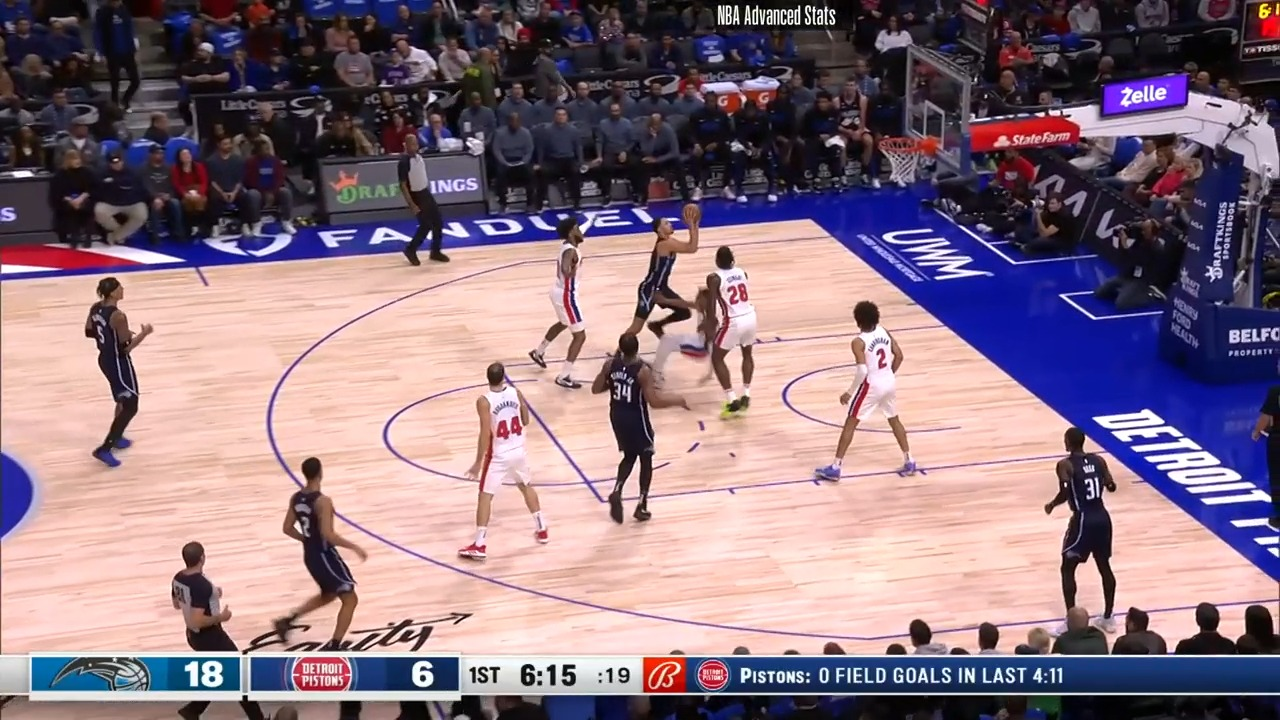net: (876, 130, 941, 189)
player: (271, 456, 370, 652), (598, 328, 693, 526), (818, 298, 919, 484), (460, 362, 551, 563), (1049, 427, 1132, 632), (621, 208, 709, 379), (90, 278, 161, 475), (535, 217, 605, 389), (696, 244, 759, 420), (647, 287, 716, 379)
referee: (167, 542, 245, 656), (396, 131, 448, 274), (1254, 362, 1280, 535)
